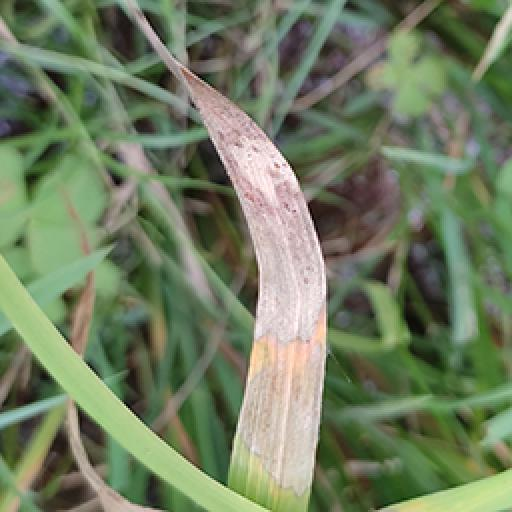Sheath Blight: (138, 42, 332, 490)
